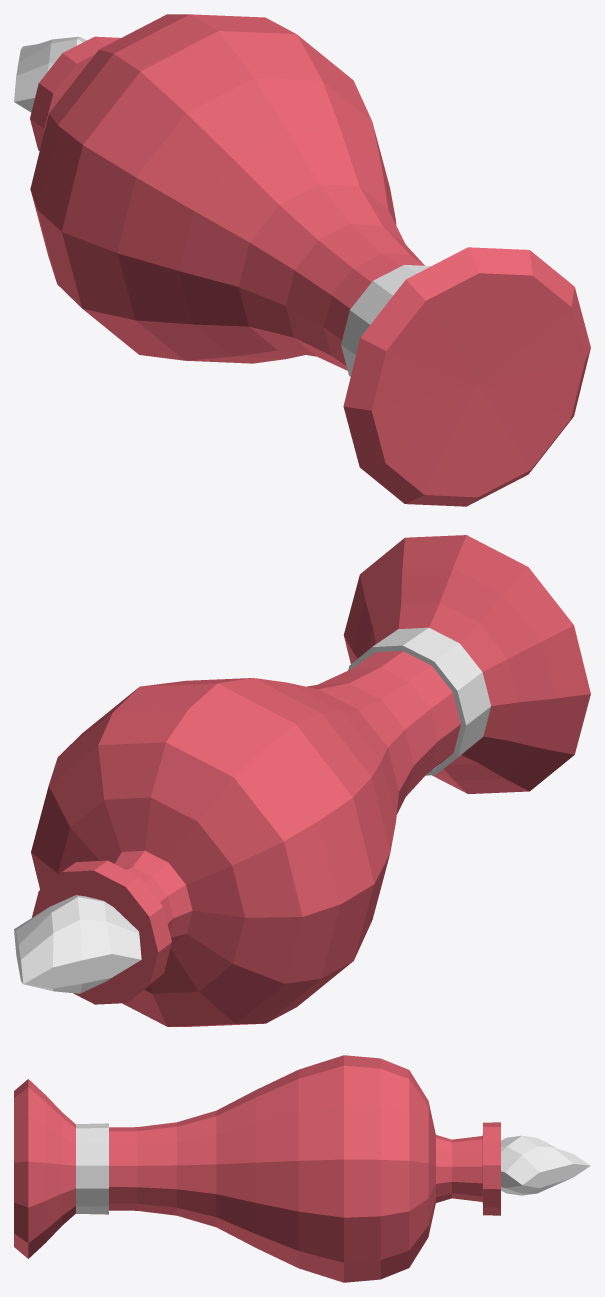
File: INFINITYYpotions.fbx
3 views of the same model, one above another, from view 1: azimuth 30°, elevation 25°; view 2: azimuth 150°, elevation 25°; view 3: azimuth 270°, elevation 25° (orthographic). The views are drawn at different scales.
Visible parts, largest first — view 1: Infinity, diamonds; view 2: Infinity, diamonds; view 3: Infinity, diamonds.
Boxes of the visible parts, left/top/right/bottom form: Infinity: left=30, top=14, right=590, bottom=506; diamonds: left=14, top=36, right=431, bottom=376; Infinity: left=31, top=535, right=590, bottom=1026; diamonds: left=14, top=627, right=490, bottom=993; Infinity: left=14, top=1055, right=500, bottom=1282; diamonds: left=76, top=1123, right=590, bottom=1214.
Bounding box in the file's own units: 307 × 307 × 775.
